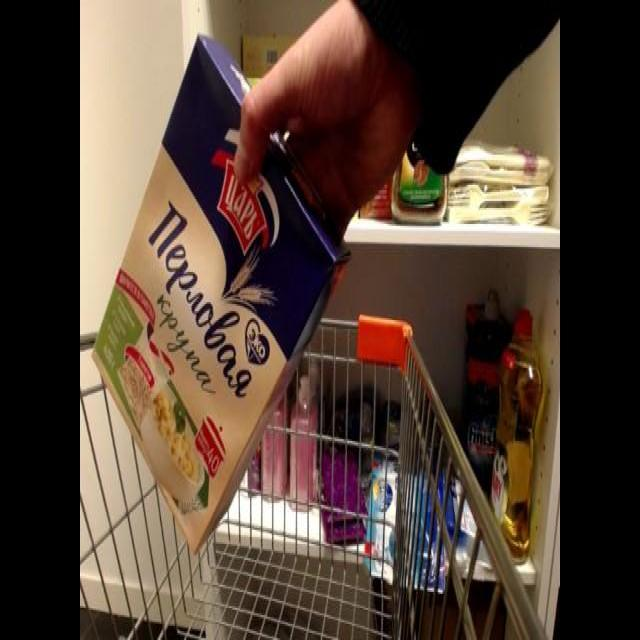Groats: (86, 32, 357, 556)
